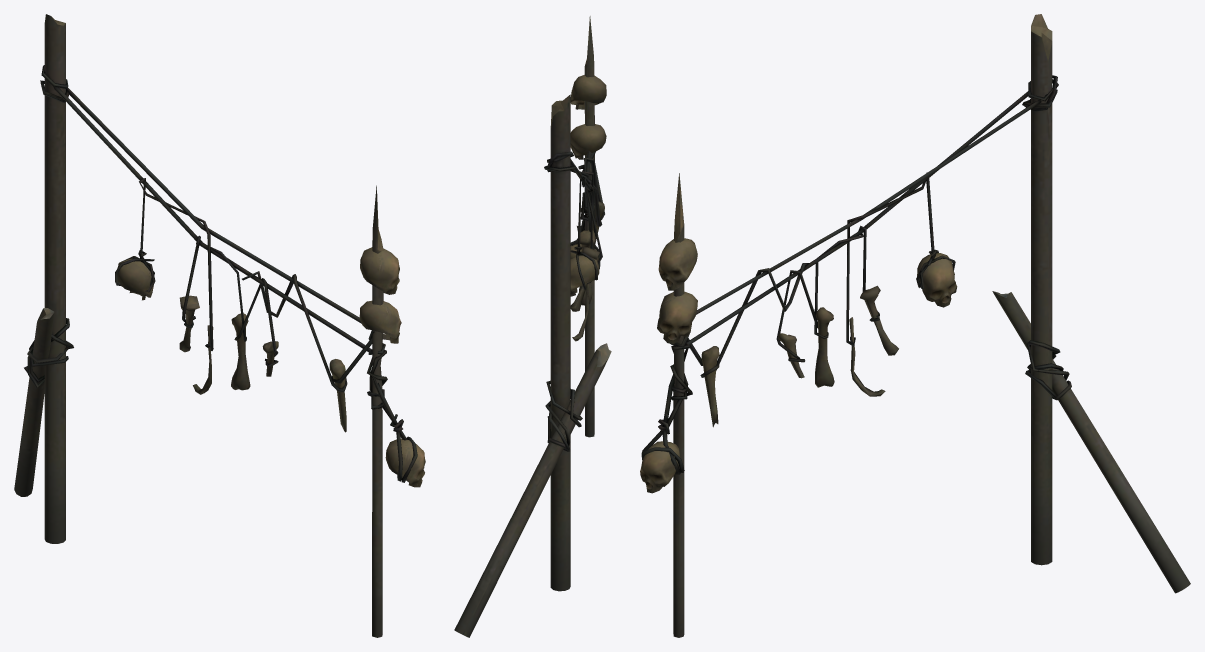
File: creep_camp001b.fbx
The picture shows the model from 3 angles, left to right: view 1: azimuth 30°, elevation 25°; view 2: azimuth 150°, elevation 25°; view 3: azimuth 270°, elevation 25°; orthographic projection. The views are drawn at different scales.
Visible parts, largest first — view 1: creep_camp001b; view 2: creep_camp001b; view 3: creep_camp001b.
Boxes of the visible parts, x1=… form: creep_camp001b: x1=14, y1=14, x2=425, y2=637; creep_camp001b: x1=454, y1=16, x2=611, y2=637; creep_camp001b: x1=640, y1=14, x2=1190, y2=637.
Size of the model in its own units: 17376 by 41589 by 37365.
